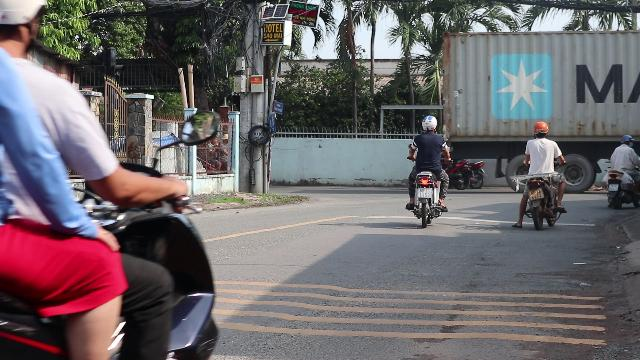helmet: (419, 114, 436, 132), (532, 121, 548, 138)
licenseplate: (528, 187, 544, 200), (417, 188, 433, 198)
motorcyclist: (513, 120, 567, 228), (402, 114, 451, 226)
